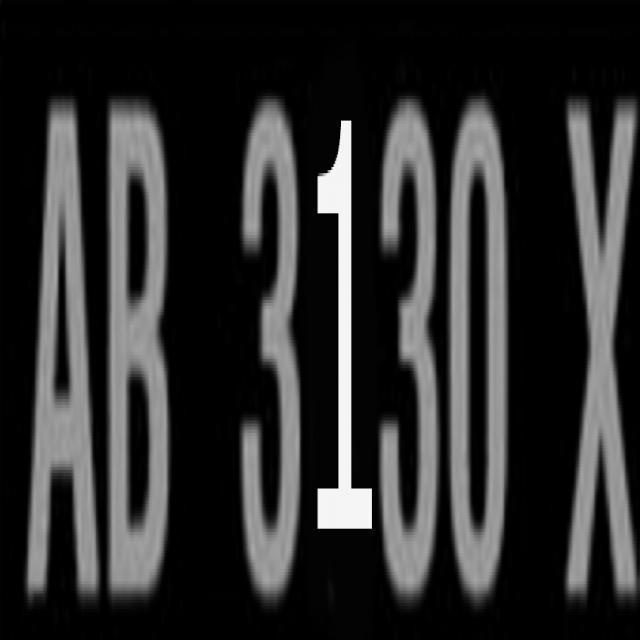0: (440, 88, 512, 595)
1: (316, 93, 361, 549)
3: (218, 83, 304, 603), (376, 98, 440, 599)
A: (15, 100, 109, 607)
B: (99, 94, 187, 598)
X: (558, 90, 640, 616)
